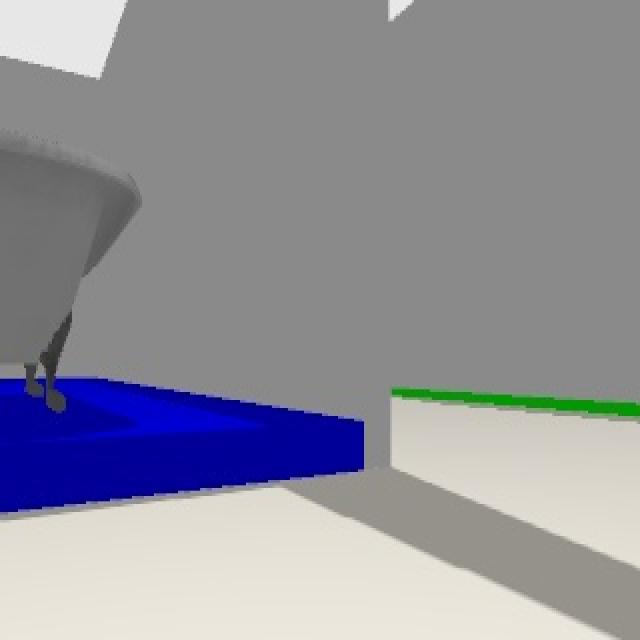bathtub: (0, 131, 142, 413)
